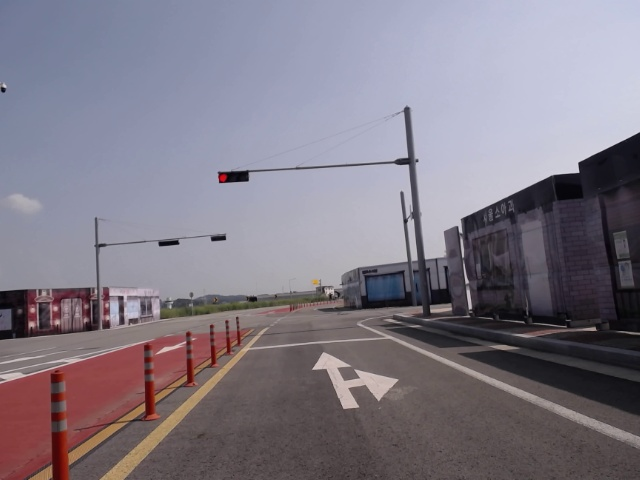red_3: (219, 171, 248, 183)
